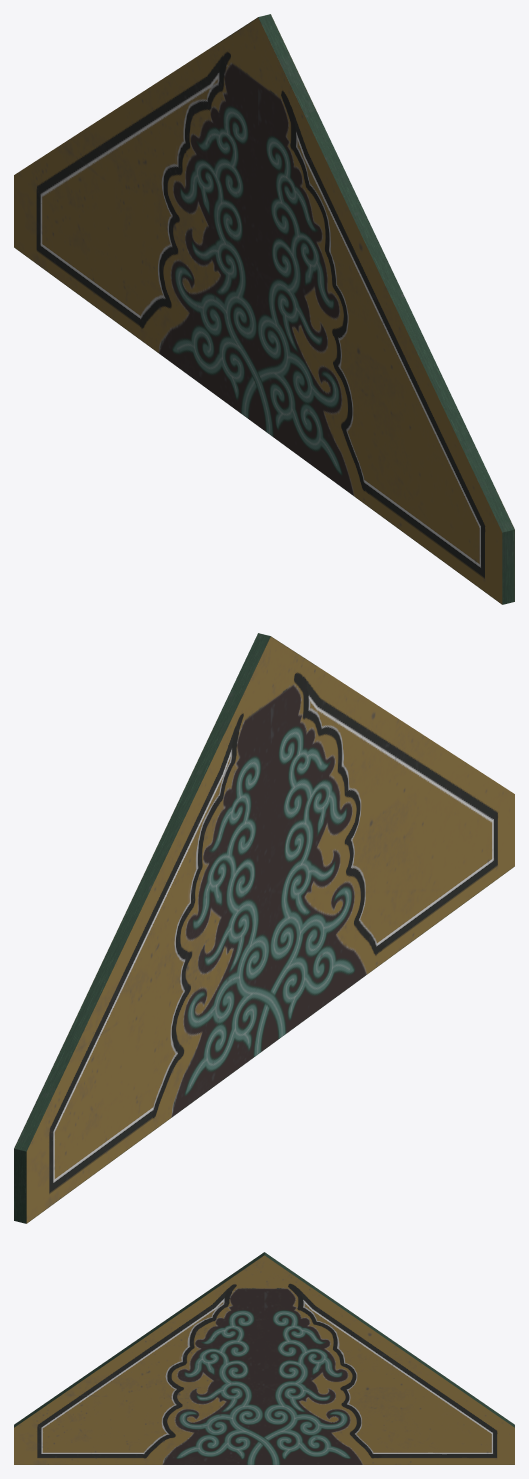
Rendered from SM_Daegong01a.fbx.
The picture shows the model from 3 angles, top to bottom: view 1: azimuth 30°, elevation 25°; view 2: azimuth 150°, elevation 25°; view 3: azimuth 270°, elevation 25°; orthographic projection. The views are drawn at different scales.
Parts seen in each view (by area): view 1: SM_Daegong01a; view 2: SM_Daegong01a; view 3: SM_Daegong01a.
Boxes of the visible parts, bbox=[...] form: SM_Daegong01a: bbox=[14, 14, 514, 604]; SM_Daegong01a: bbox=[14, 633, 514, 1223]; SM_Daegong01a: bbox=[14, 1252, 514, 1464].
Bounding box in the file's own units: 5 × 335 × 155.
1 material, 1 textured.
